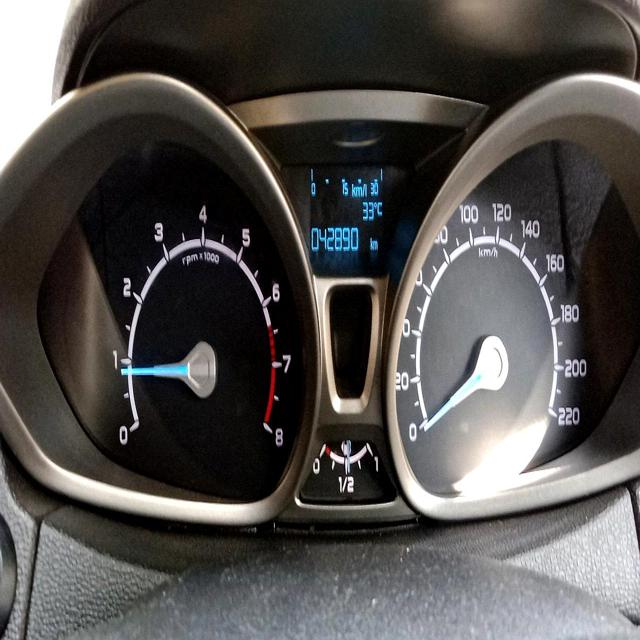odometer: (309, 224, 360, 255)
